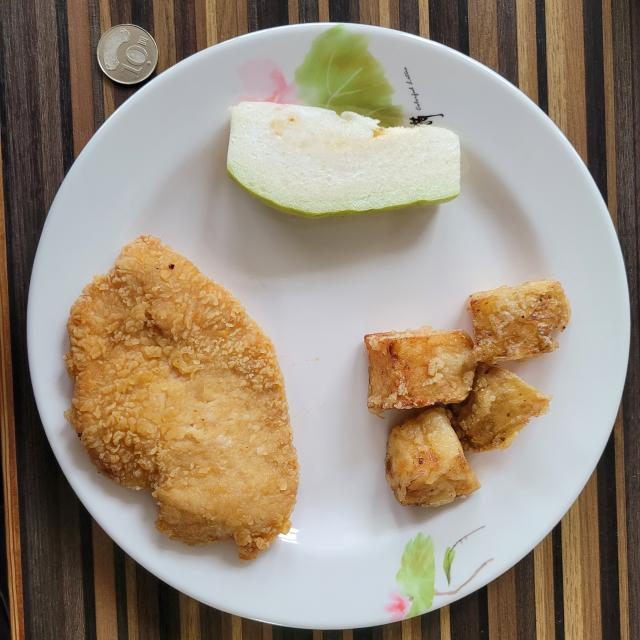coin: (98, 24, 158, 85)
fried chicken cutlet: (65, 236, 299, 560)
fried potato: (365, 280, 571, 506)
guava -sliced-: (228, 101, 460, 218)
